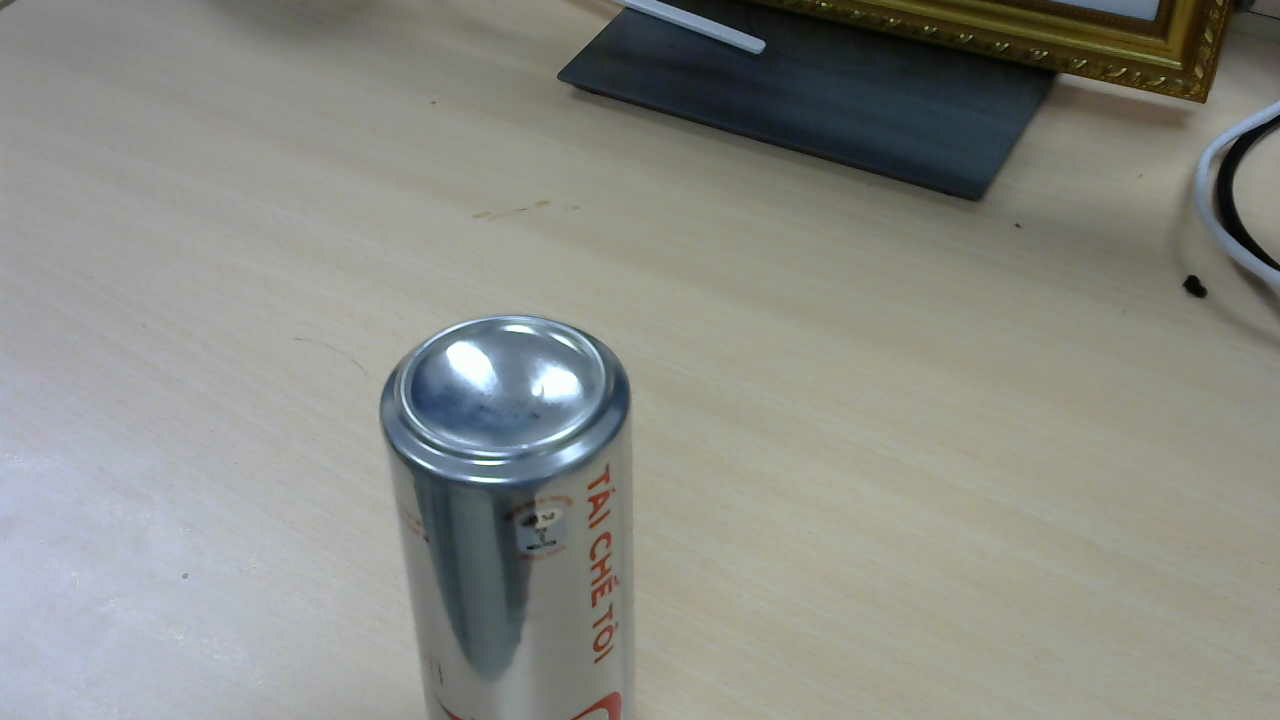Coca_Cola: (385, 316, 644, 699)
